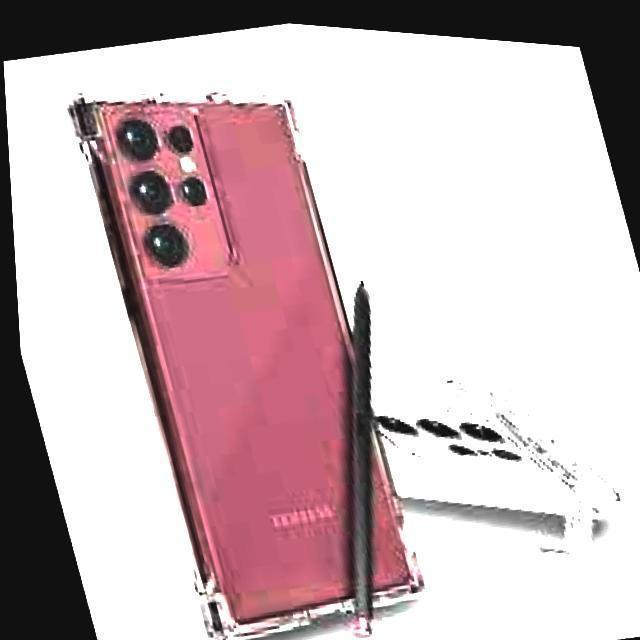lens: (114, 112, 213, 265)
phone: (72, 82, 426, 628)
